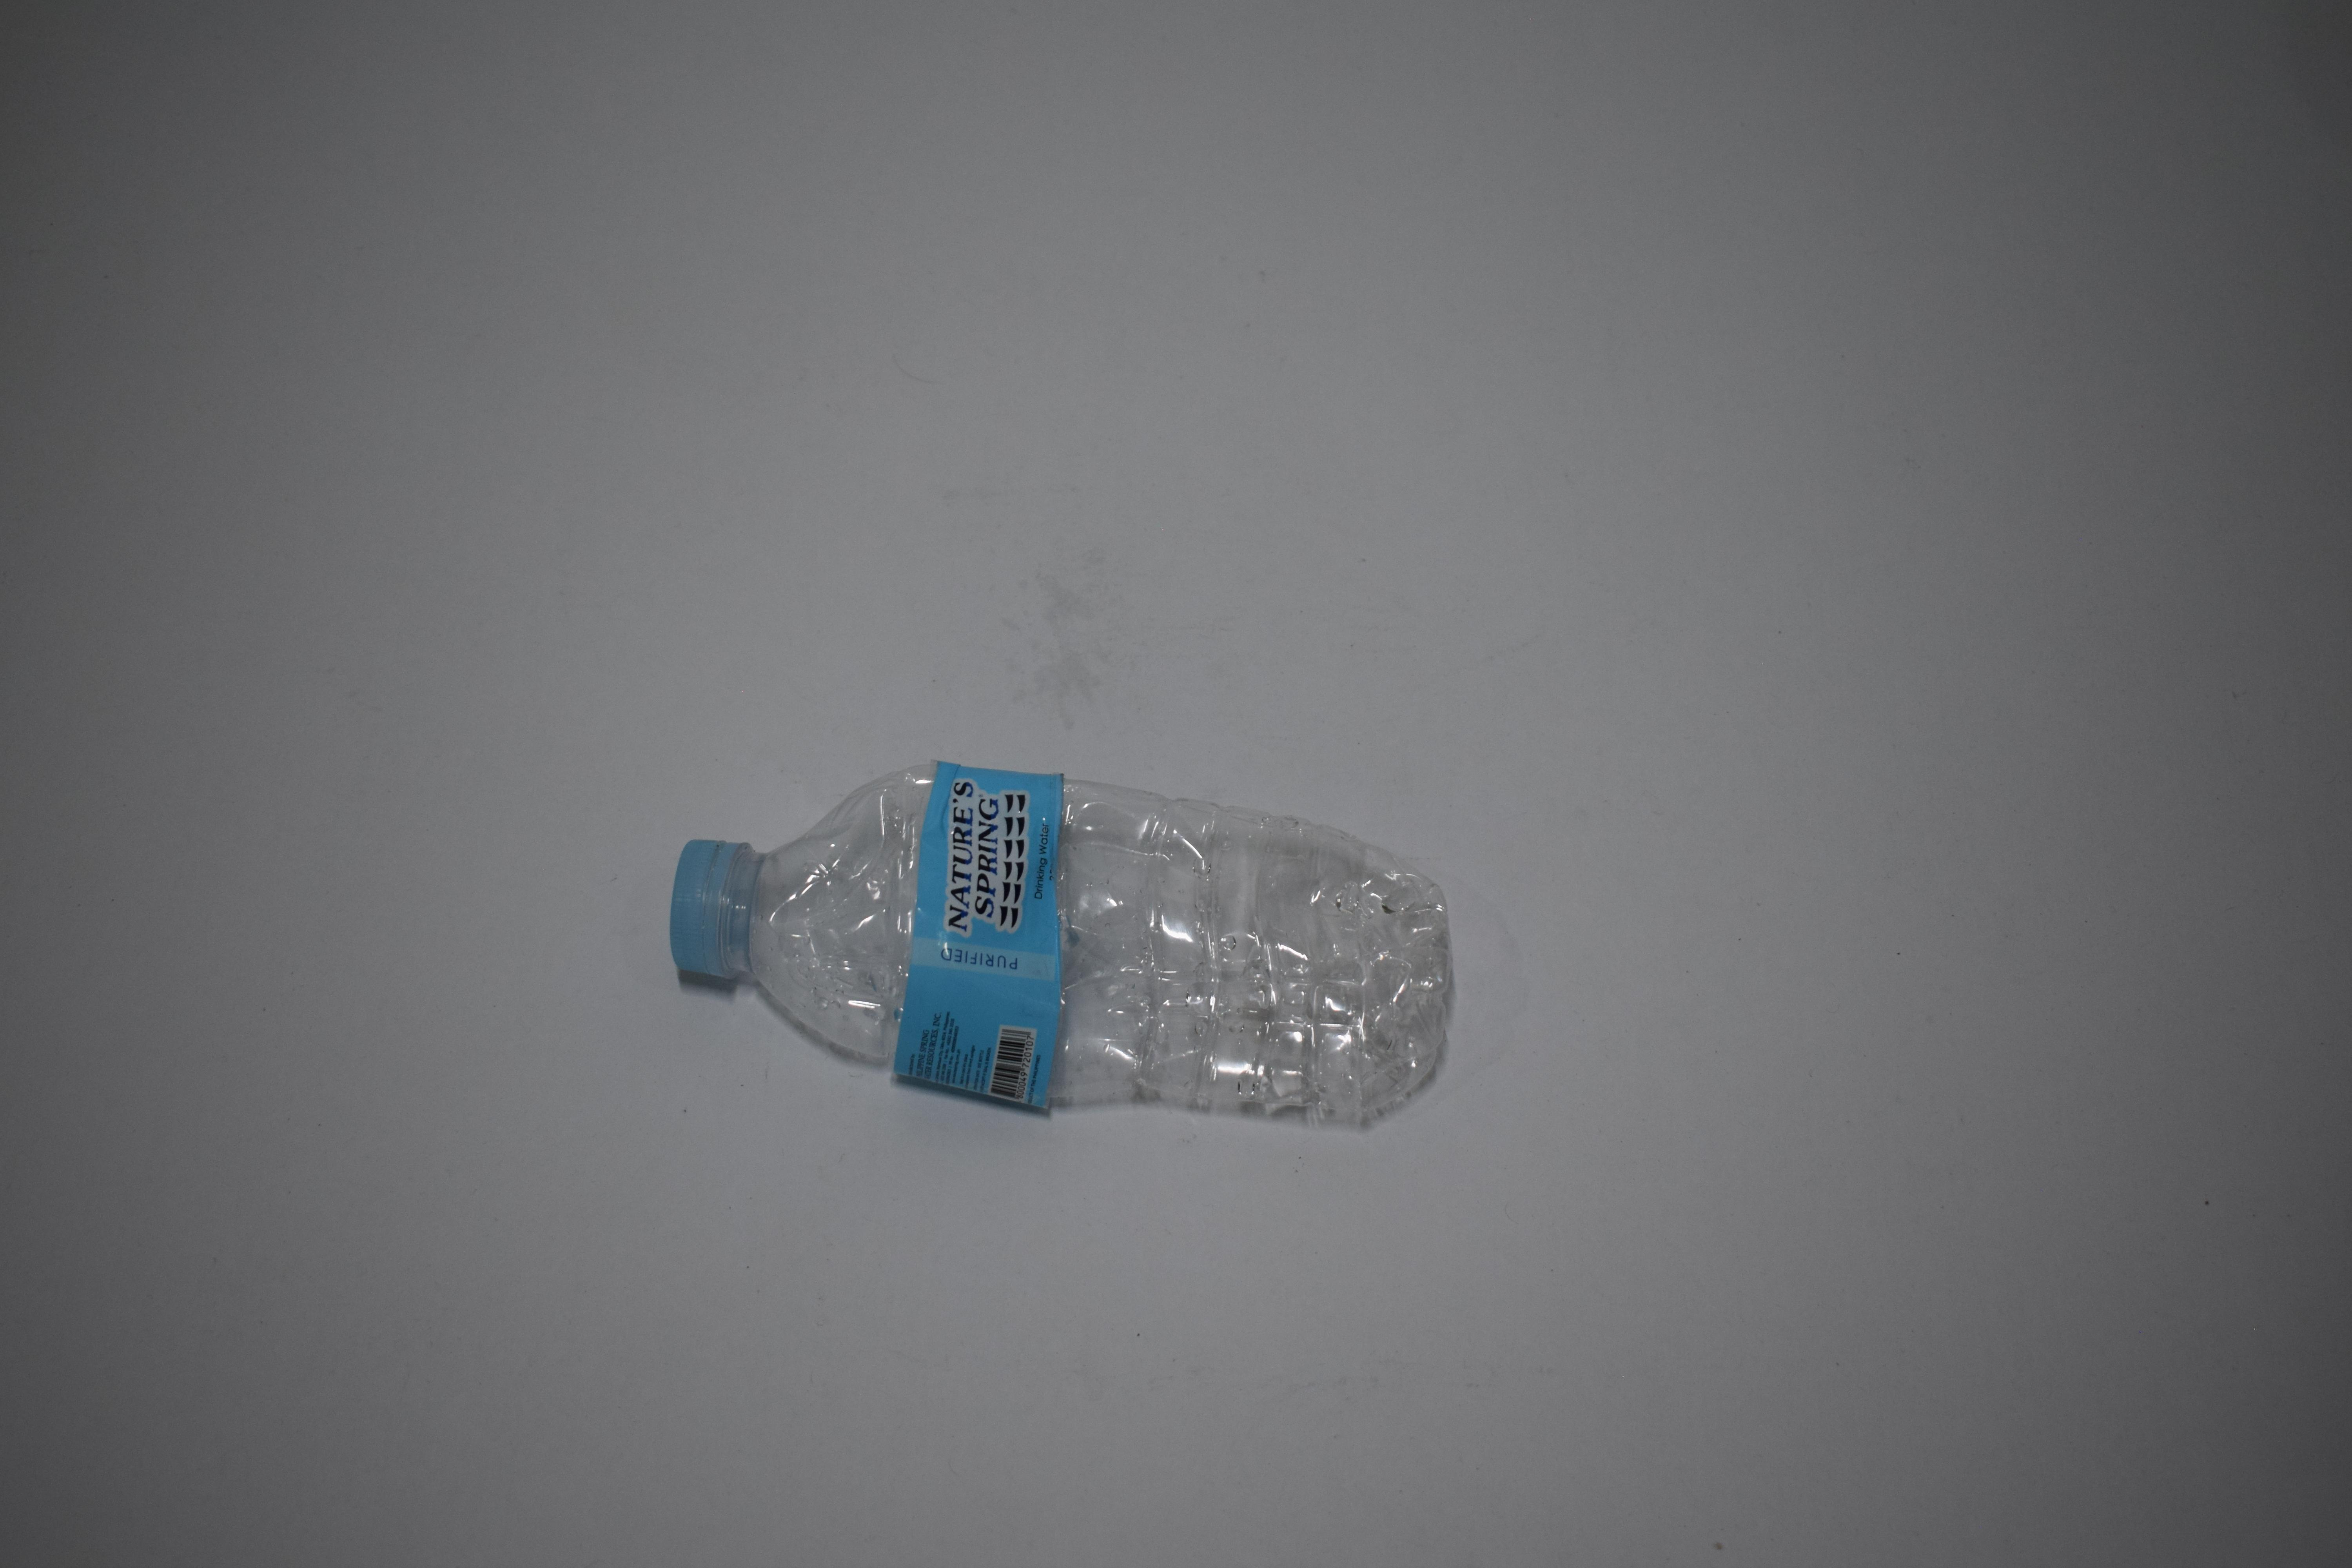bottle: (544, 749, 1341, 1136)
